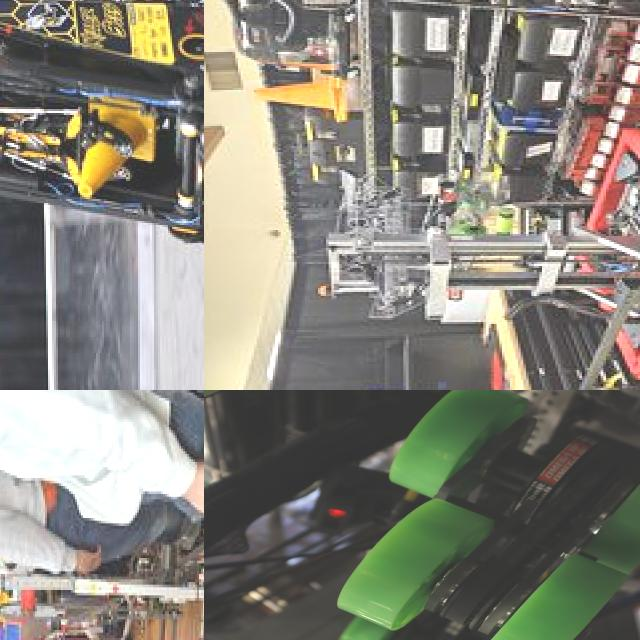FRC-Robots: (204, 390, 640, 640), (273, 110, 640, 390), (0, 0, 204, 261), (0, 501, 204, 640)
